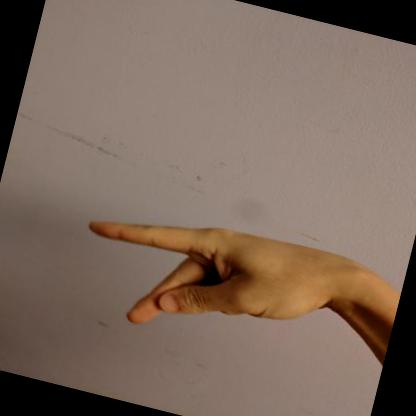P: (89, 221, 362, 324)
